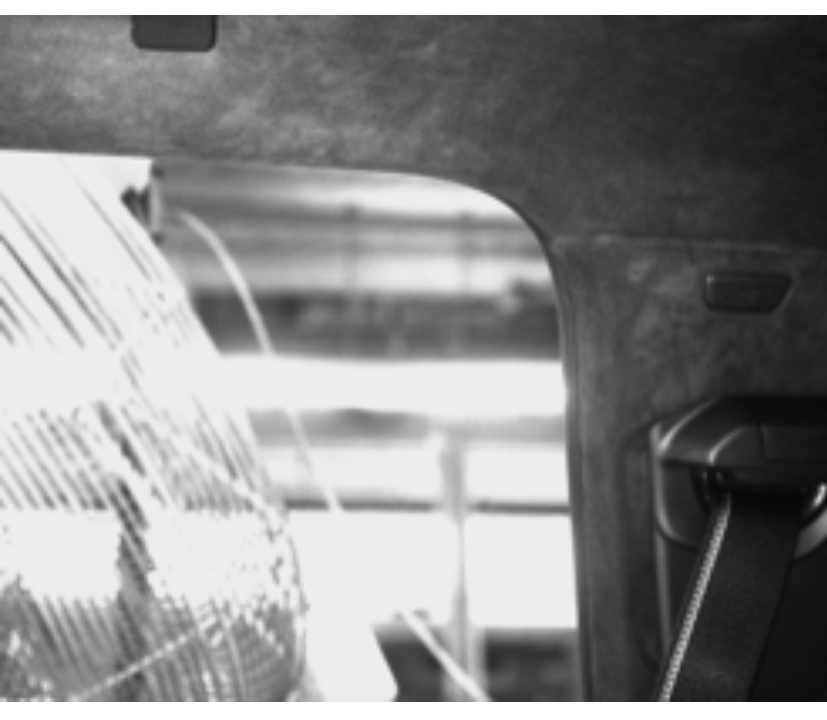camerafault: (687, 256, 800, 324)
